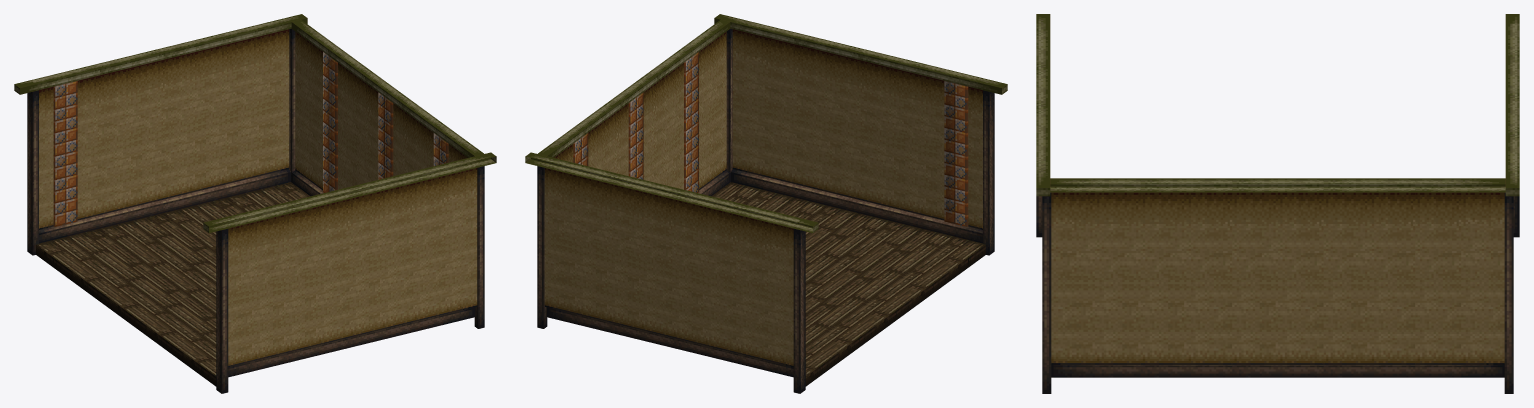
The model's file is EnvBdgMD_Sea_A_Indoor_House_B.FBX.
The picture shows the model from 3 angles, left to right: view 1: azimuth 30°, elevation 25°; view 2: azimuth 150°, elevation 25°; view 3: azimuth 270°, elevation 25°; orthographic projection. The views are drawn at different scales.
Visible parts, largest first — view 1: EnvBdgMD_Sea_A_Indoor_House_B; view 2: EnvBdgMD_Sea_A_Indoor_House_B; view 3: EnvBdgMD_Sea_A_Indoor_House_B.
Boxes of the visible parts, x1,y1,x2,y2 form: EnvBdgMD_Sea_A_Indoor_House_B: (14,14,496,393); EnvBdgMD_Sea_A_Indoor_House_B: (525,14,1007,393); EnvBdgMD_Sea_A_Indoor_House_B: (1036,14,1519,393).
Bounding box in the file's own units: 900 × 510 × 1055.
